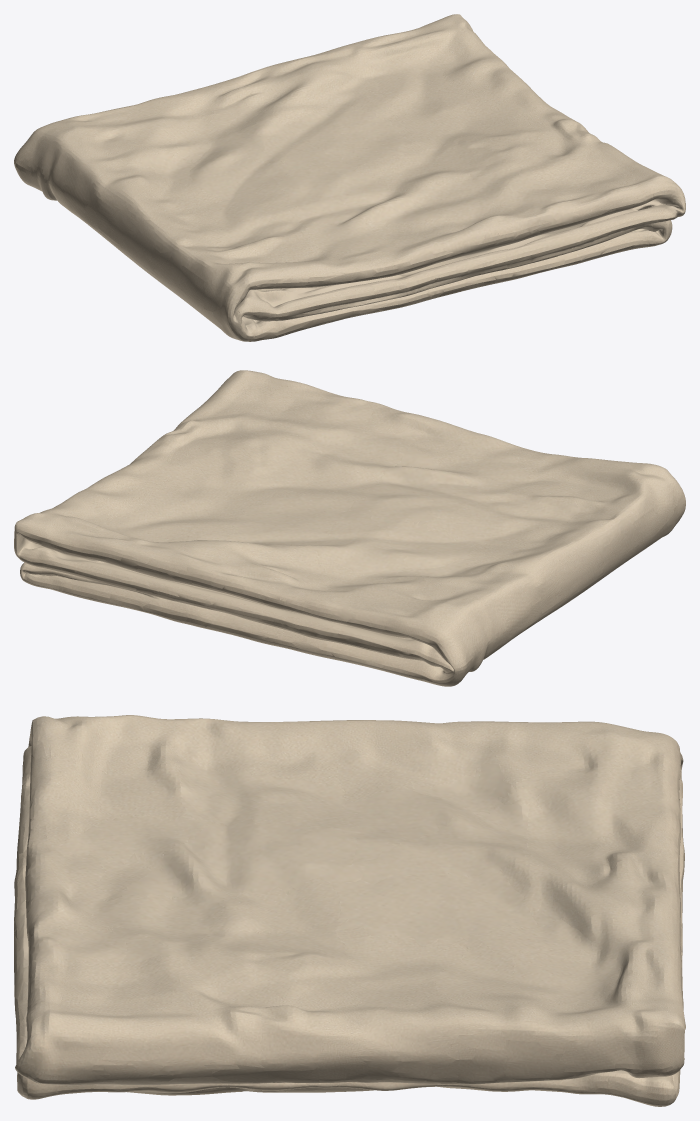
File: original-cloth.glb
3 renders of one model, top to bottom at view 1: azimuth 30°, elevation 25°; view 2: azimuth 150°, elevation 25°; view 3: azimuth 270°, elevation 25°, orthographic. The views are drawn at different scales.
Visible parts, largest first — view 1: Mesh_0; view 2: Mesh_0; view 3: Mesh_0.
Part boxes in pixels (x1,y1,x2,y2): Mesh_0: [14, 14, 685, 341]; Mesh_0: [14, 370, 685, 686]; Mesh_0: [14, 715, 685, 1106].
Bounding box in the file's own units: 1.9 × 0.2625 × 1.66.
1 material, 1 textured.
